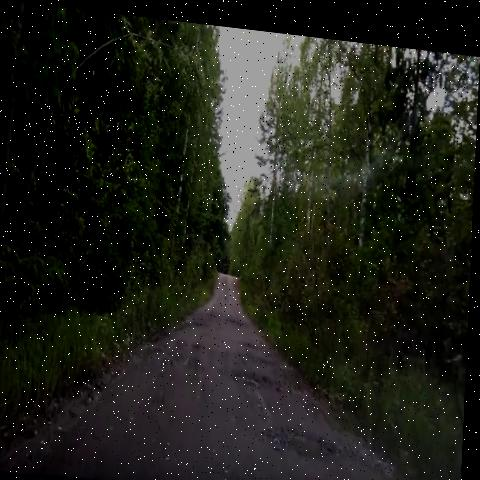pothole: (262, 412, 362, 463), (157, 326, 210, 378), (230, 356, 269, 394), (210, 456, 271, 480), (242, 335, 275, 369), (177, 305, 206, 333), (227, 300, 249, 323), (240, 326, 263, 346)
